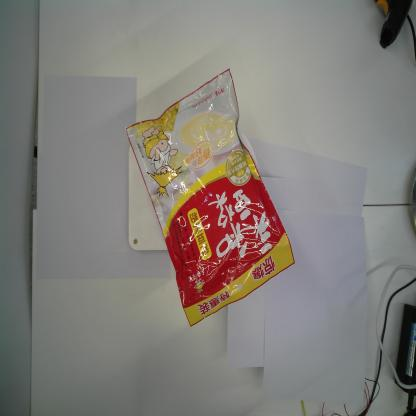Instant Drink: (125, 67, 295, 327)
